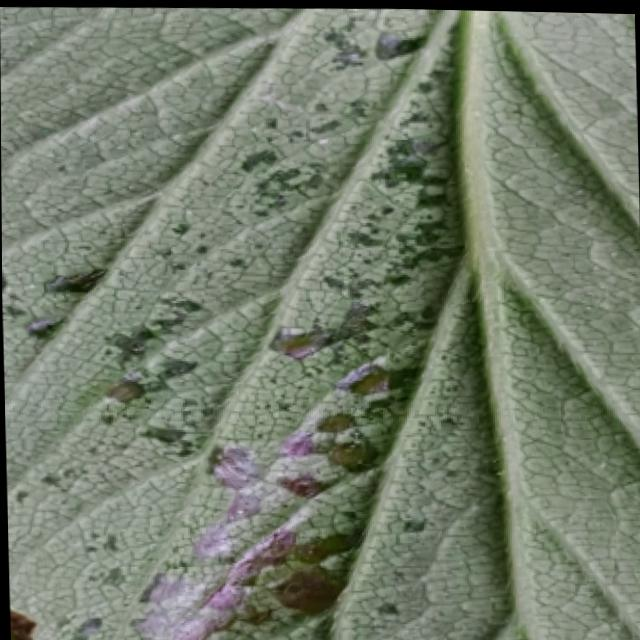Angular Leafspot: (0, 6, 493, 640)
